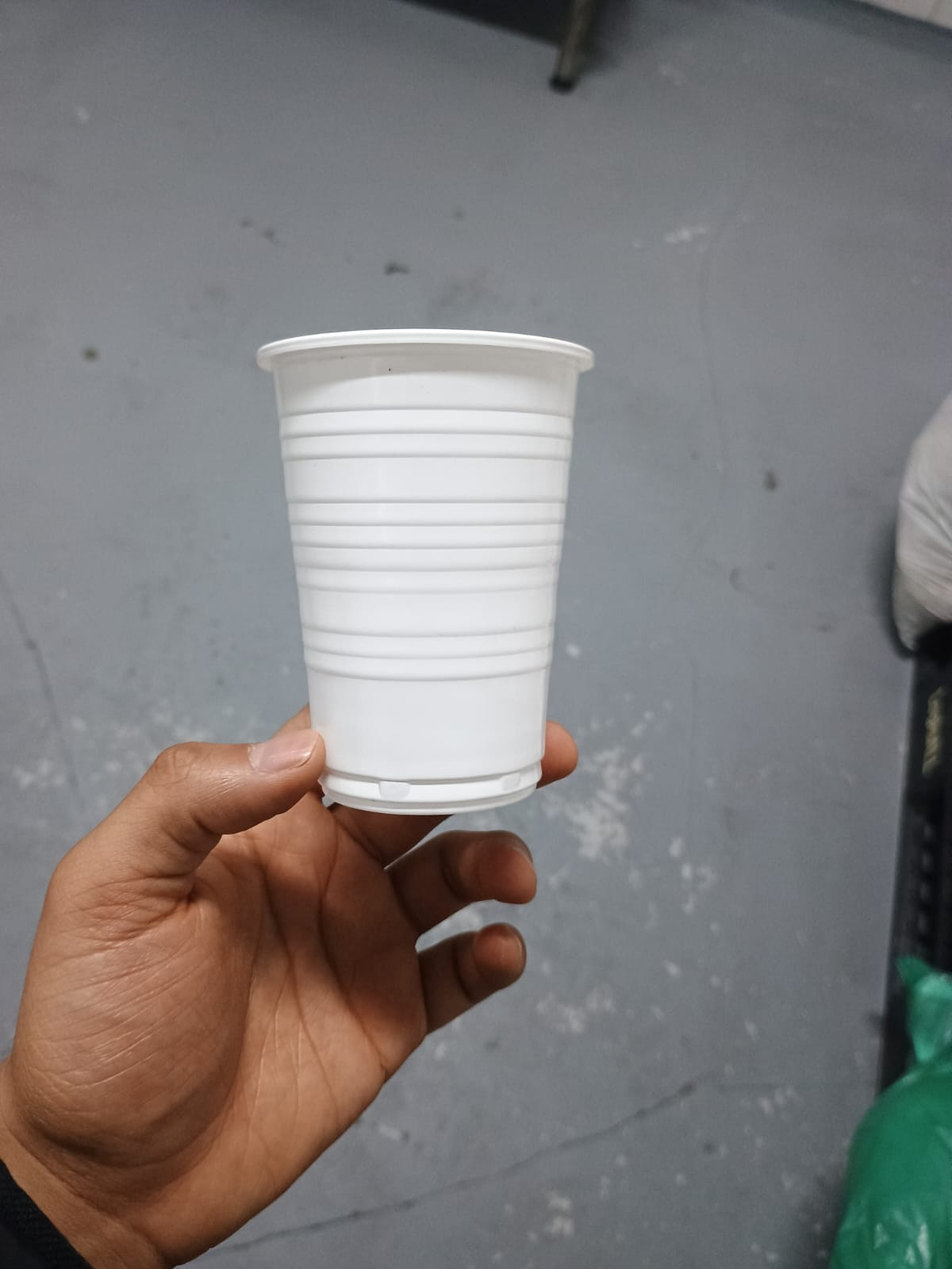Plastico: (257, 327, 597, 812)
